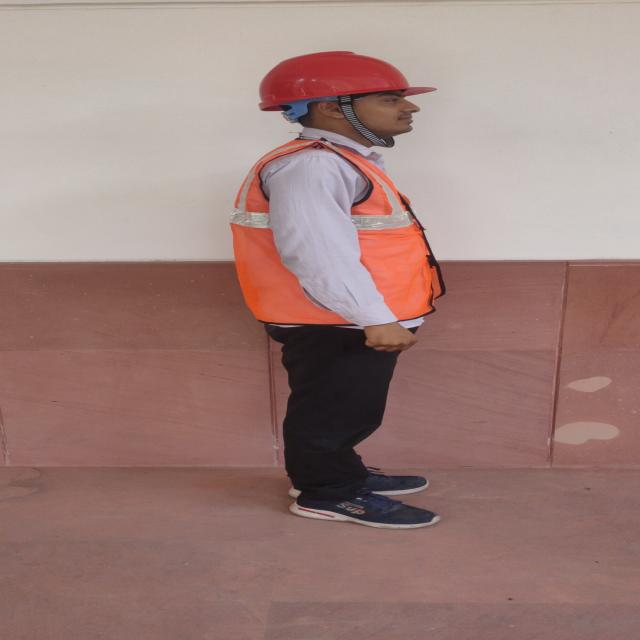safe: (229, 51, 447, 527)
